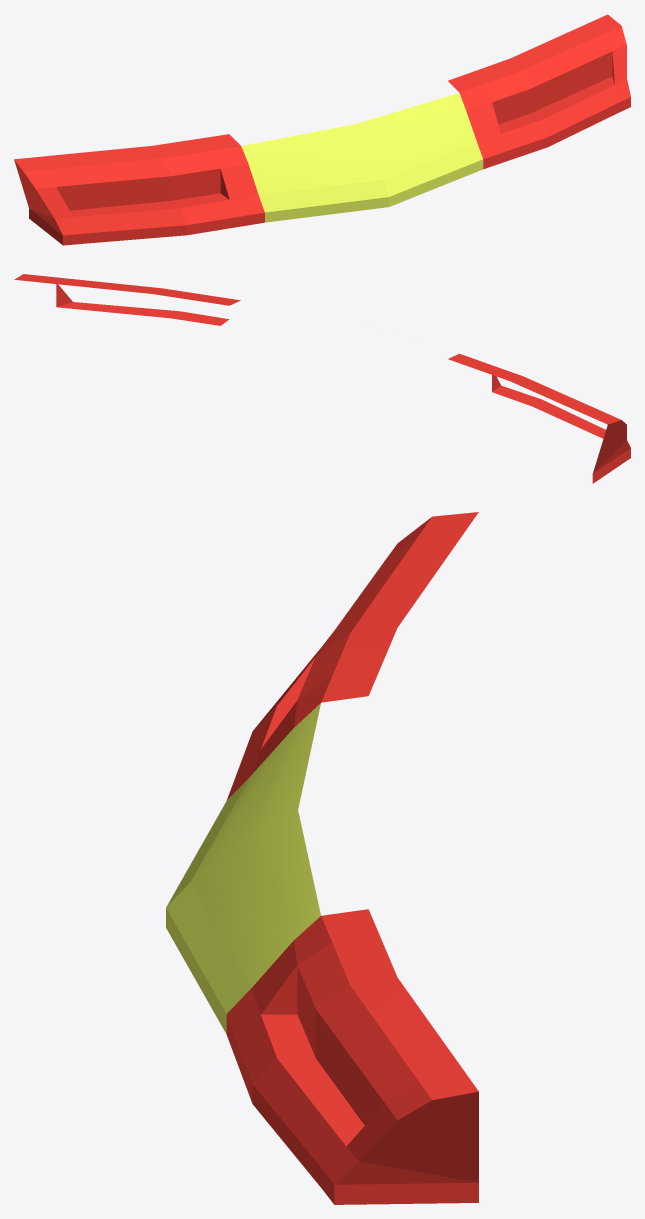
Rendered from LuxBumper00R02.gltf.
3 renders of one model, top to bottom at view 1: azimuth 30°, elevation 25°; view 2: azimuth 150°, elevation 25°; view 3: azimuth 270°, elevation 25°, orthographic. The views are drawn at different scales.
Parts seen in each view (by area): view 1: LuxBumper00R02; view 2: LuxBumper00R02; view 3: LuxBumper00R02.
Boxes of the visible parts, x1=… form: LuxBumper00R02: x1=14, y1=14, x2=630, y2=245; LuxBumper00R02: x1=14, y1=274, x2=630, y2=483; LuxBumper00R02: x1=166, y1=512, x2=478, y2=1204.
Bounding box in the file's own units: 0.1824 × 0.0184 × 0.0413.
Materials: 1 (1 with a texture image).
